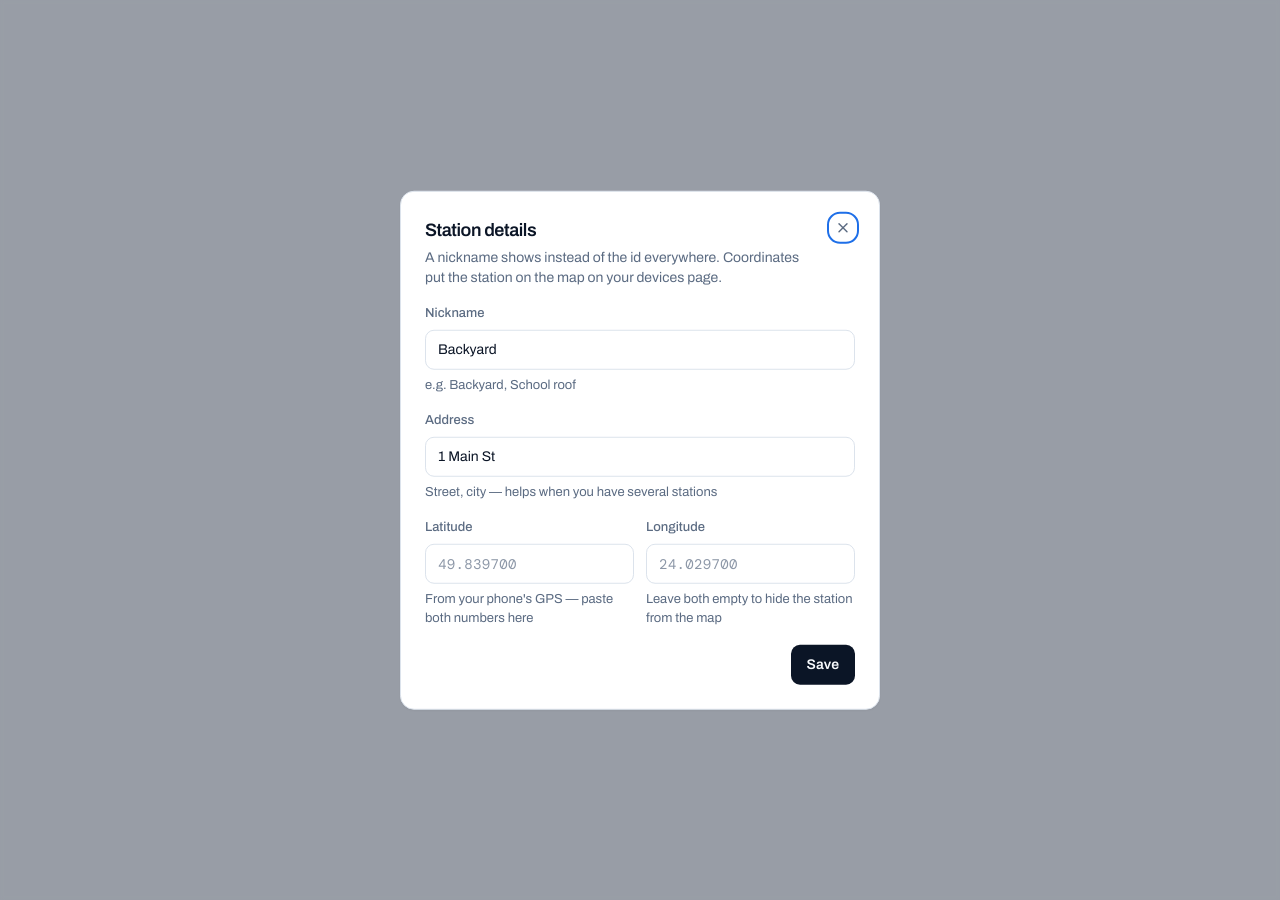
Test case: DeviceProfileDialog coordinates › sends the coordinates as strings and surfaces a field error
In the field with test id "pd-latitude-input": (530, 563) x1=425 y1=543 x2=634 y2=583, type "91"
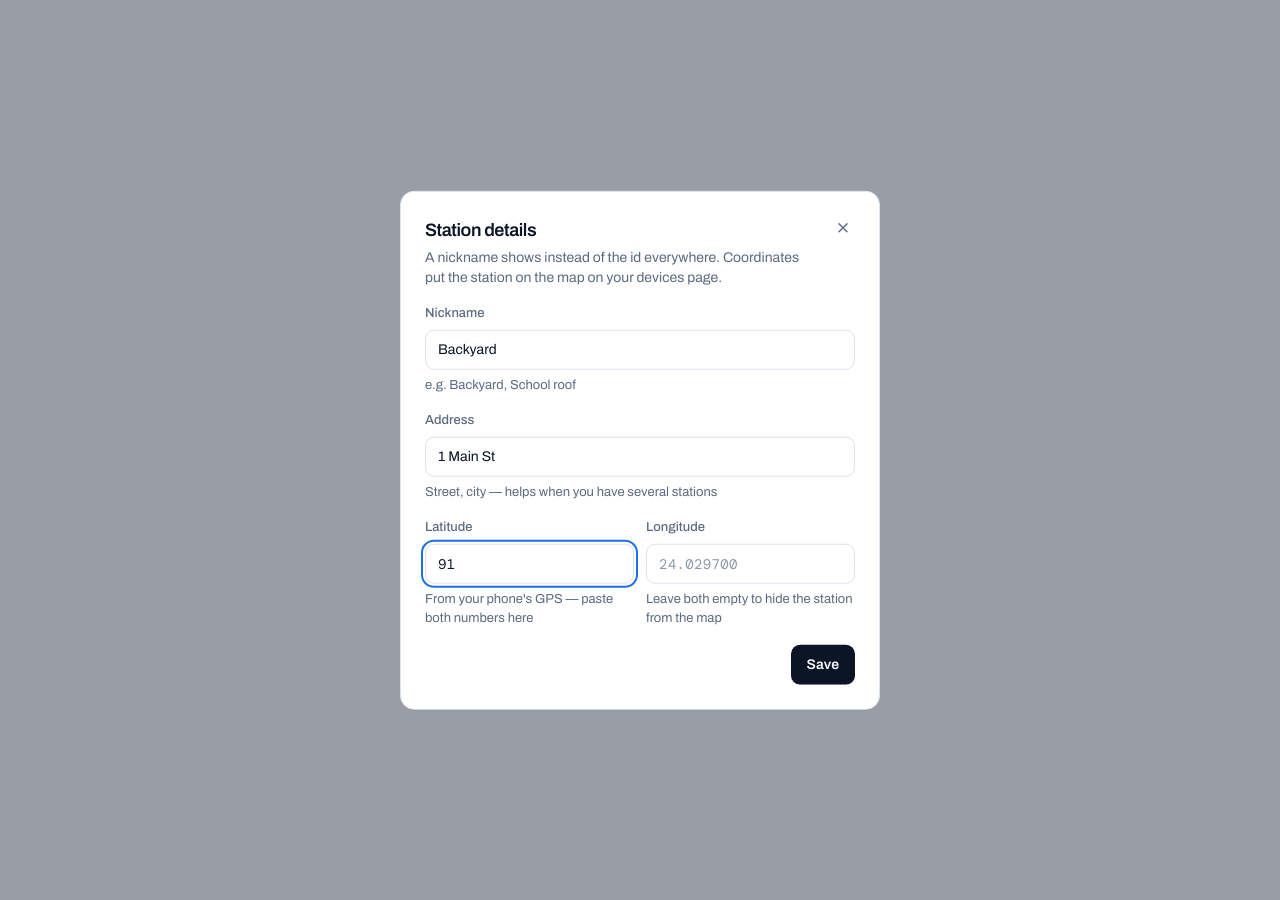
In the field with test id "pd-longitude-input": (750, 563) x1=646 y1=543 x2=855 y2=583, type "24"
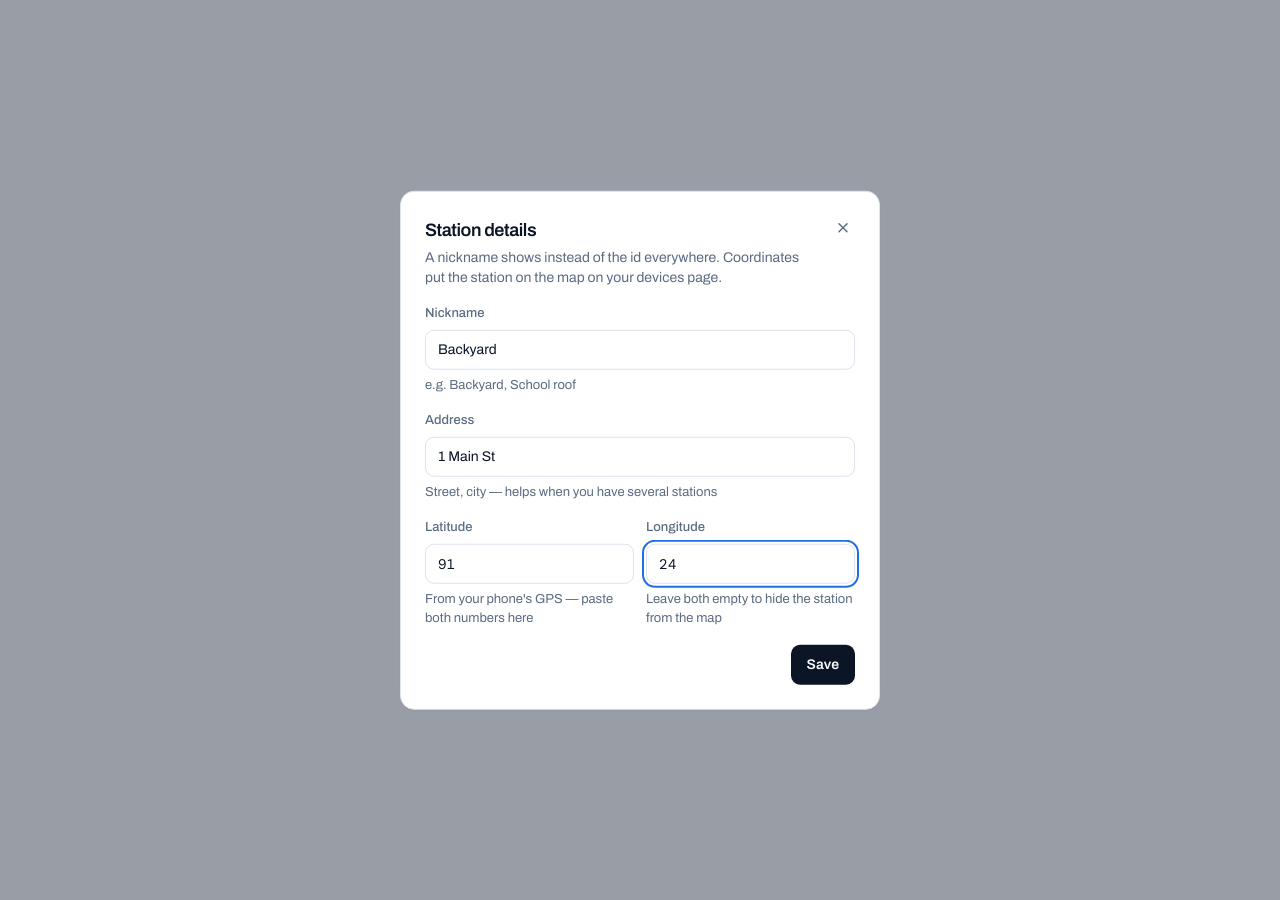
Click the button with test id "pd-save": (823, 664) x1=791 y1=644 x2=855 y2=684
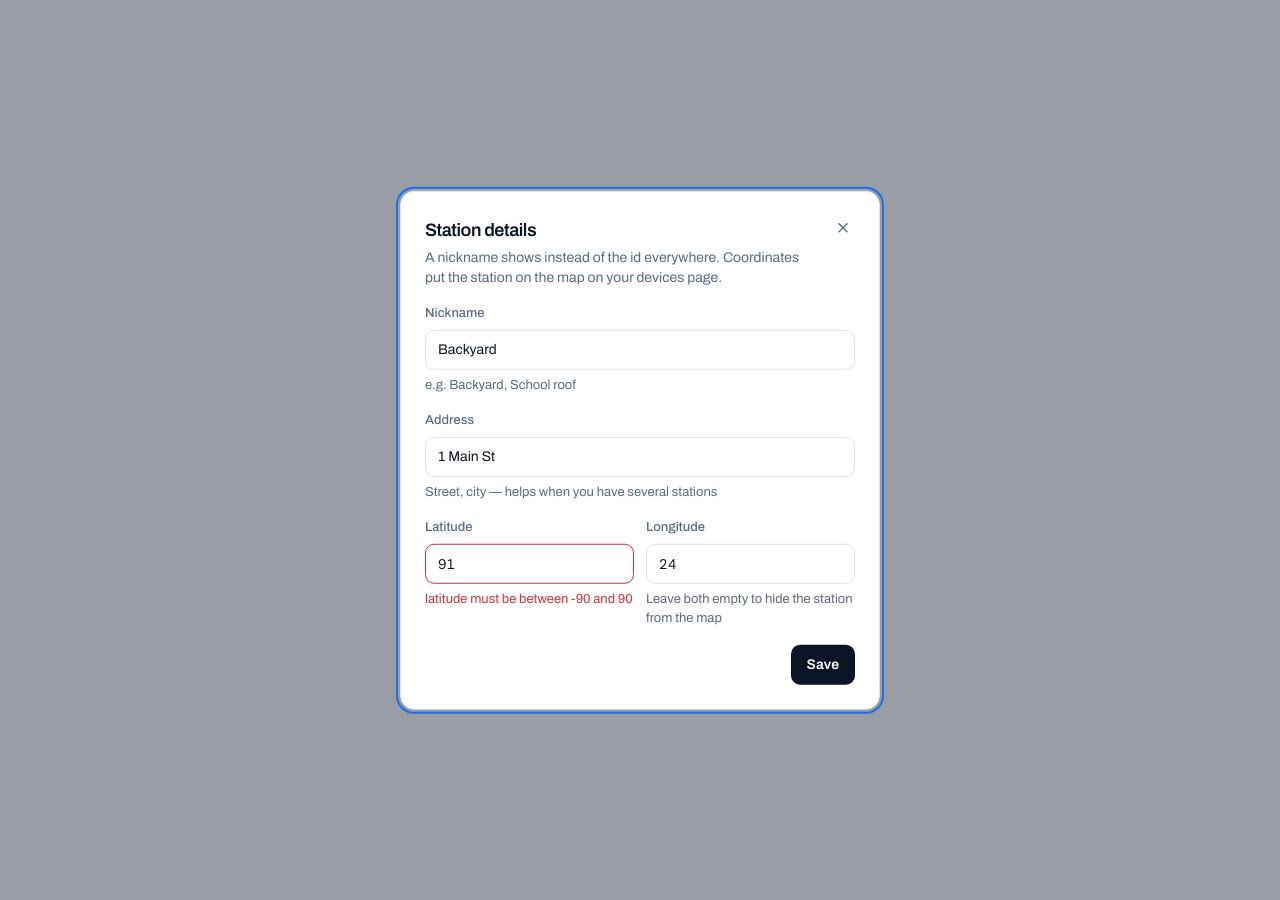
expect the message with test id "pd-latitude-error" shows "between -90 and 90": met, box x1=425 y1=591 x2=633 y2=605
